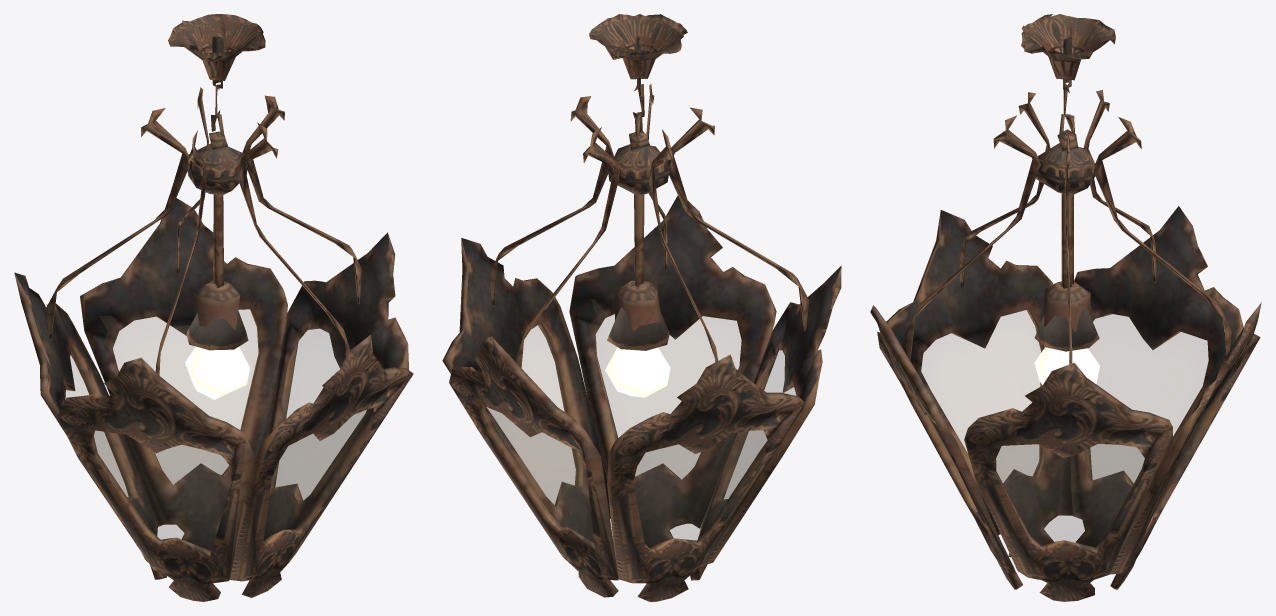
The model's file is lantern_chandelier_01.glb.
3 views of the same model, side by side, from view 1: azimuth 30°, elevation 25°; view 2: azimuth 150°, elevation 25°; view 3: azimuth 270°, elevation 25° (orthographic).
Visible parts, largest first — view 1: lantern_chandelier_01; view 2: lantern_chandelier_01; view 3: lantern_chandelier_01.
Boxes of the visible parts, <box> form: lantern_chandelier_01: <box>14,14,413,601</box>; lantern_chandelier_01: <box>442,14,841,601</box>; lantern_chandelier_01: <box>870,14,1261,601</box>.
Bounding box in the file's own units: 0.5744 × 0.8763 × 0.5641.
Materials: 3 (2 with a texture image).
